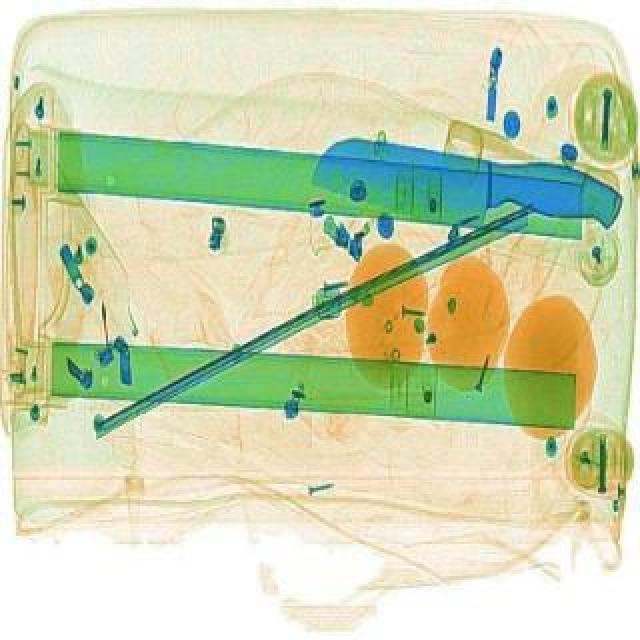knife: (304, 124, 624, 250)
